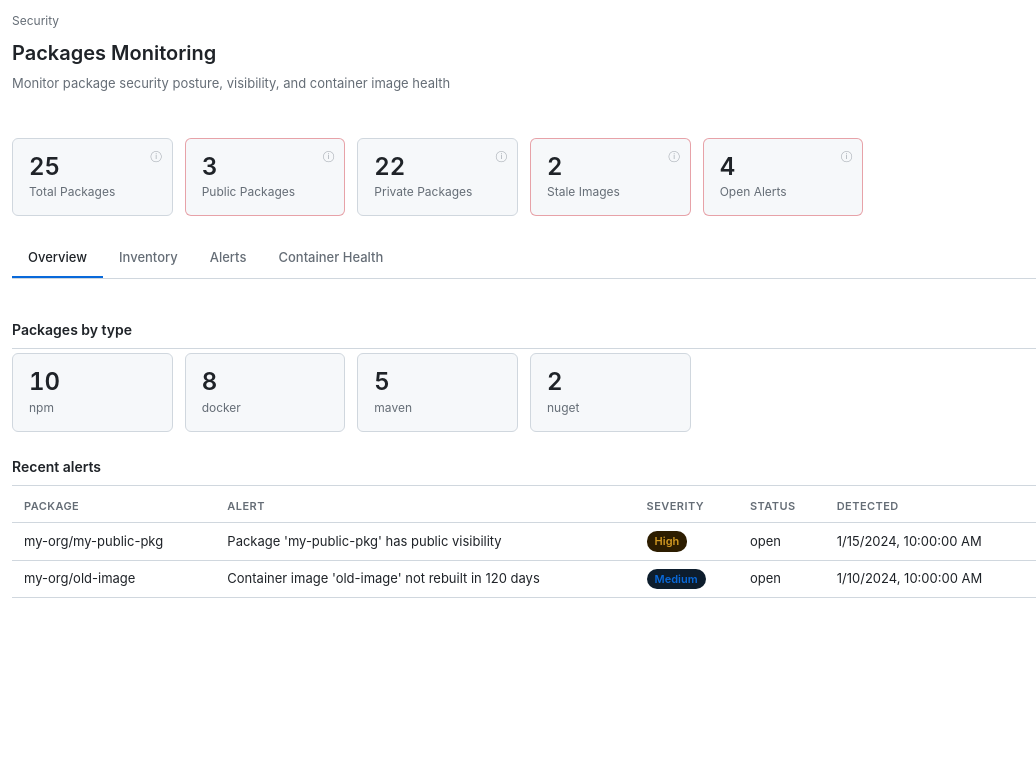
Test case: PackagesPage › switches to inventory tab
Click the tab "Inventory" at coordinates (148, 259), box [103,240,194,278]
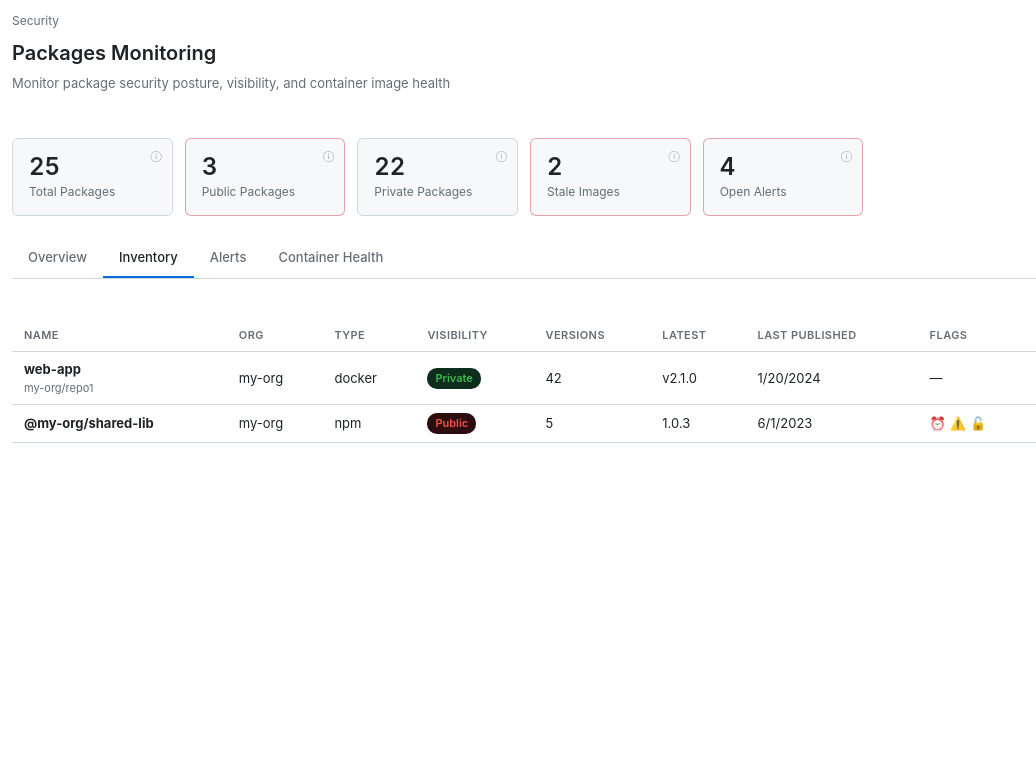
Result: the text "web-app" is shown at [24,361,81,377]
Result: the text "@my-org/shared-lib" is shown at [24,415,154,431]
